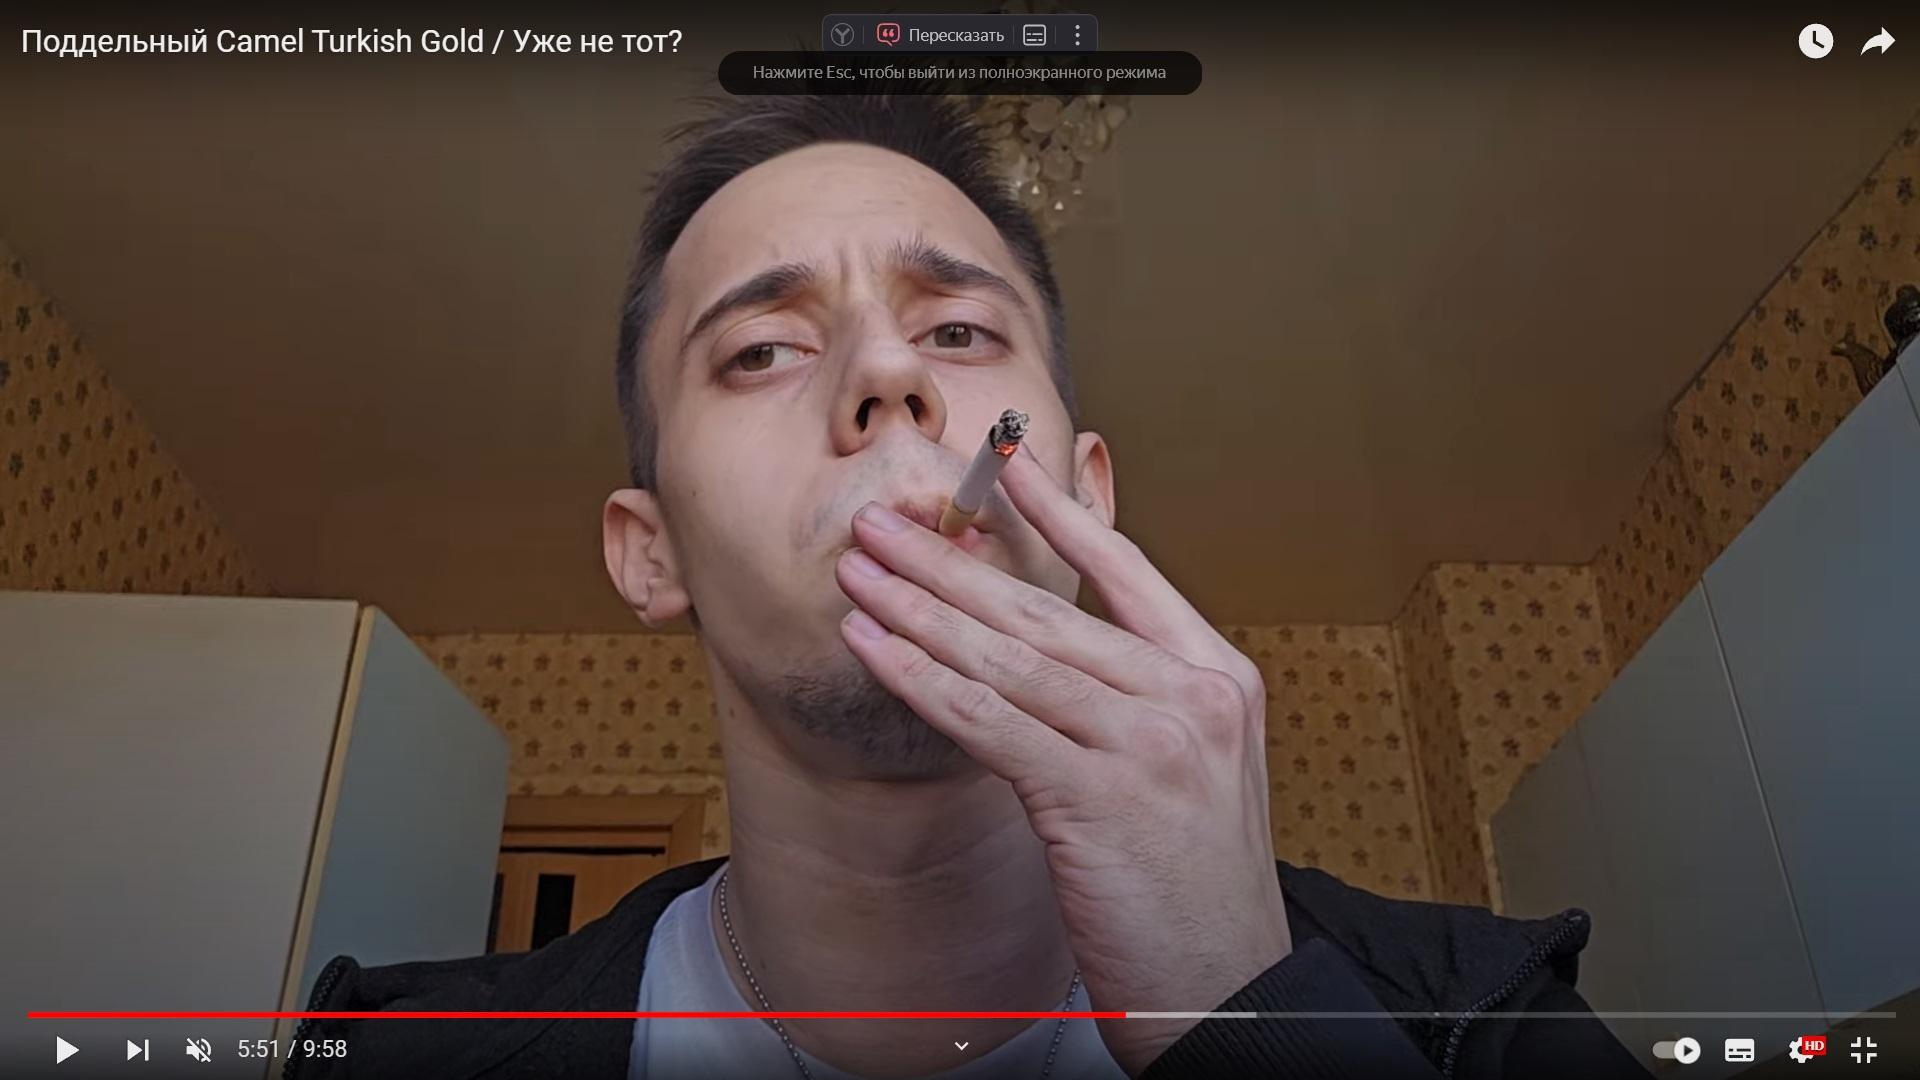cigarette: (939, 407, 1030, 535)
